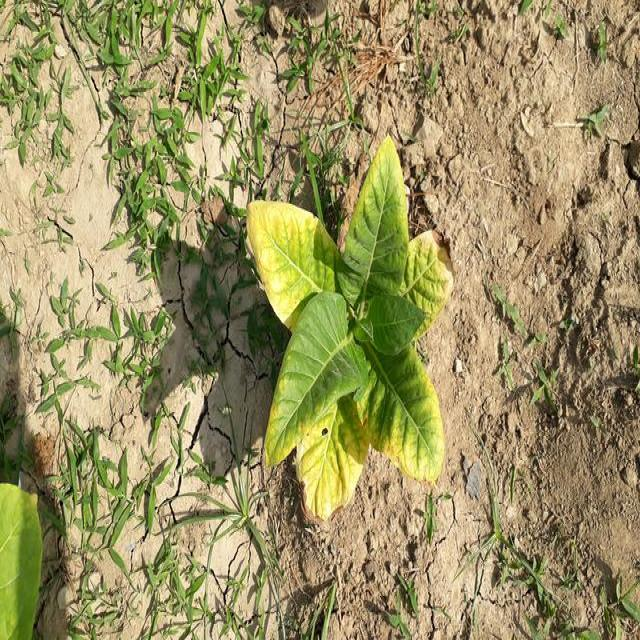crop: (238, 145, 446, 528), (0, 479, 42, 640)
